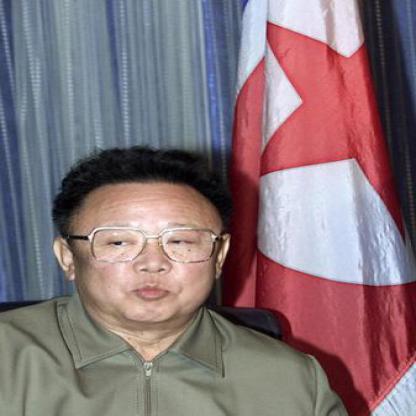face: (72, 167, 223, 324)
